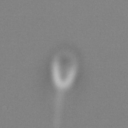normal: (46, 89, 74, 127)
